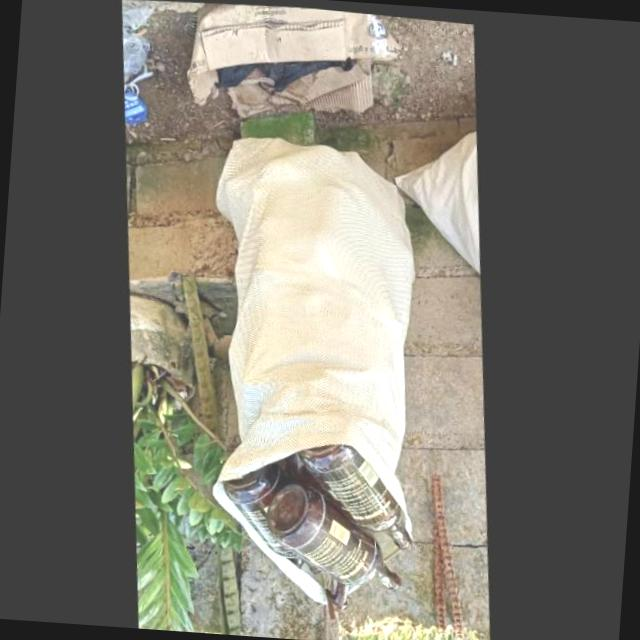chai_thuy_tinh: (266, 479, 402, 588), (298, 441, 413, 546), (222, 460, 323, 572)
